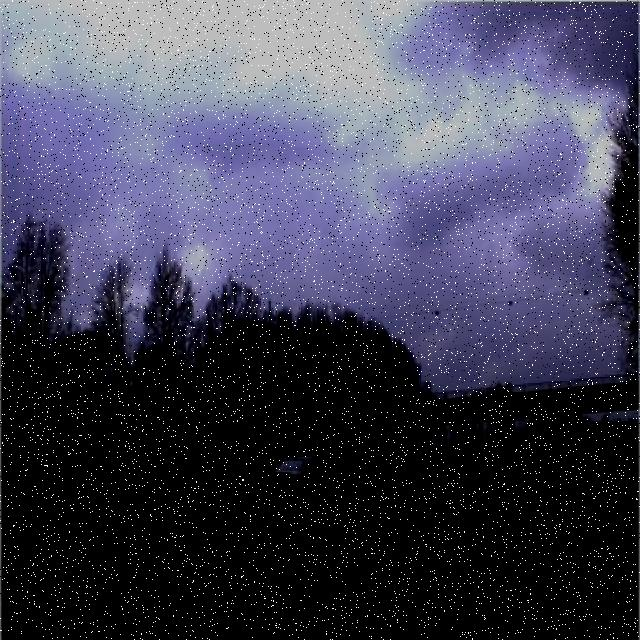Ustap pierwszenstwa: (578, 415, 594, 437)
